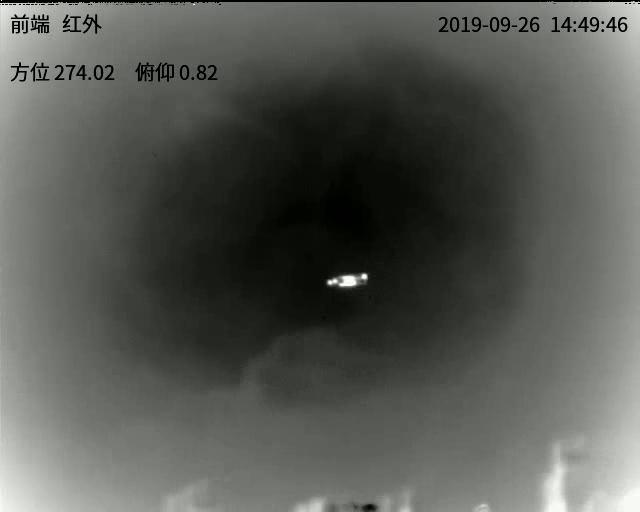DRONE: (324, 271, 370, 288)
